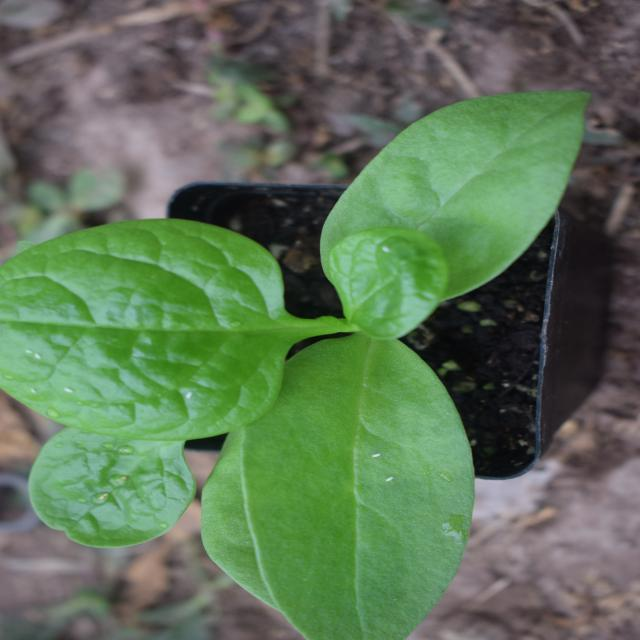Ceylon spinach: (21, 16, 541, 593)
